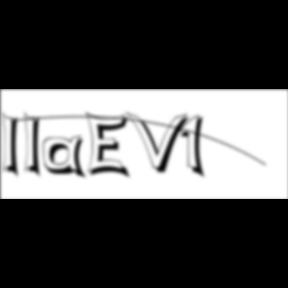1: (177, 114, 212, 182)
E: (86, 110, 134, 182)
I: (2, 110, 26, 182), (24, 110, 48, 182)
V: (127, 110, 194, 176)
a: (43, 135, 91, 182)
